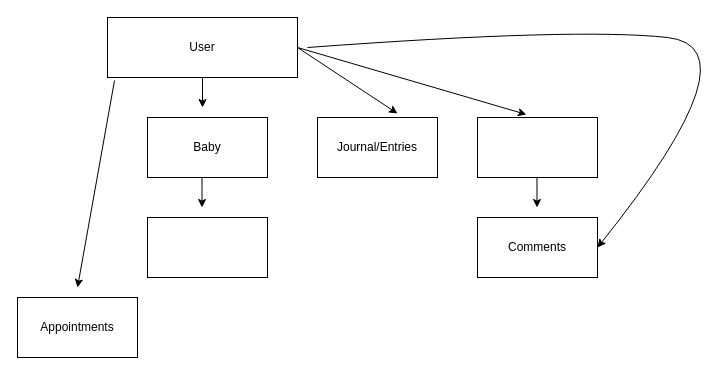
The diagram is 718 pixels wide and 375 high, and some of its shapes have lost their labels. Here are the shapes that lost their labels. From the top down, the centre of each, then its label:
At [537,147]: "ForumPost".
At [207,247]: "BabyCareLog".
